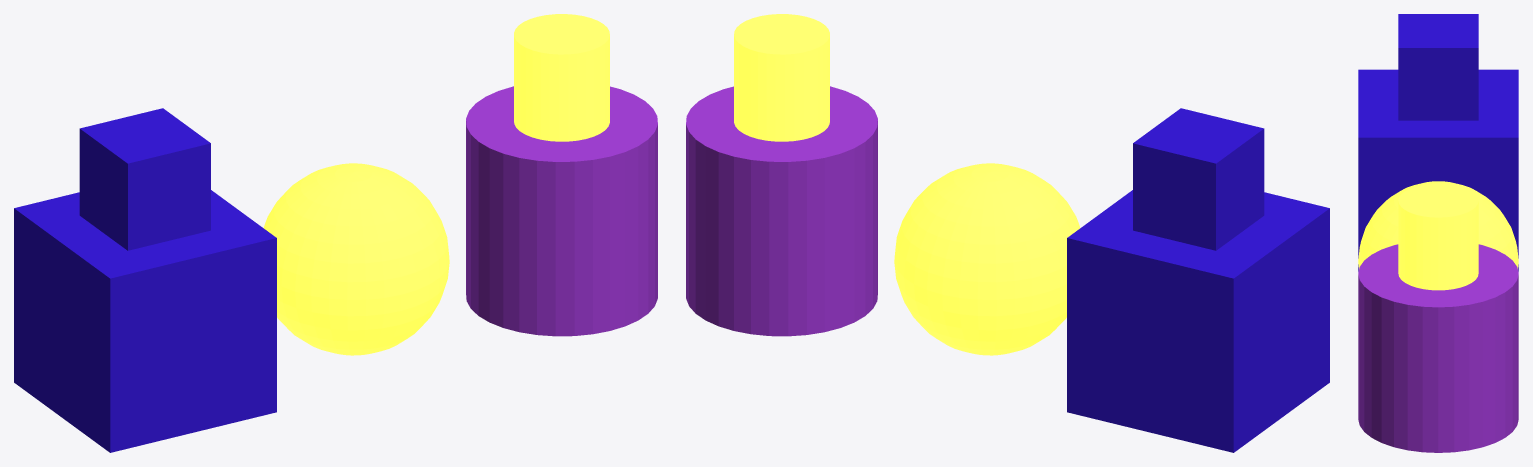
The model's file is boxtest.glb.
3 renders of one model, left to right at view 1: azimuth 30°, elevation 25°; view 2: azimuth 150°, elevation 25°; view 3: azimuth 270°, elevation 25°, orthographic. The views are drawn at different scales.
Parts seen in each view (by area): view 1: cubeBig, barBig, sphere, cubeSmall, barSmall; view 2: cubeBig, barBig, sphere, cubeSmall, barSmall; view 3: barBig, cubeBig, cubeSmall, barSmall, sphere.
Part boxes in pixels (left/top/right/bottom): cubeBig: left=14, top=190, right=276, bottom=452; barBig: left=466, top=86, right=657, bottom=336; sphere: left=263, top=163, right=449, bottom=355; cubeSmall: left=79, top=108, right=210, bottom=250; barSmall: left=514, top=14, right=609, bottom=141; cubeBig: left=1067, top=190, right=1329, bottom=452; barBig: left=686, top=86, right=877, bottom=336; sphere: left=894, top=163, right=1080, bottom=355; cubeSmall: left=1133, top=108, right=1264, bottom=250; barSmall: left=734, top=14, right=829, bottom=141; barBig: left=1358, top=244, right=1518, bottom=452; cubeBig: left=1358, top=69, right=1518, bottom=271; cubeSmall: left=1398, top=14, right=1478, bottom=120; barSmall: left=1398, top=183, right=1478, bottom=290; sphere: left=1358, top=181, right=1518, bottom=268.
Bounding box in the file's own units: 14 × 6 × 4.
